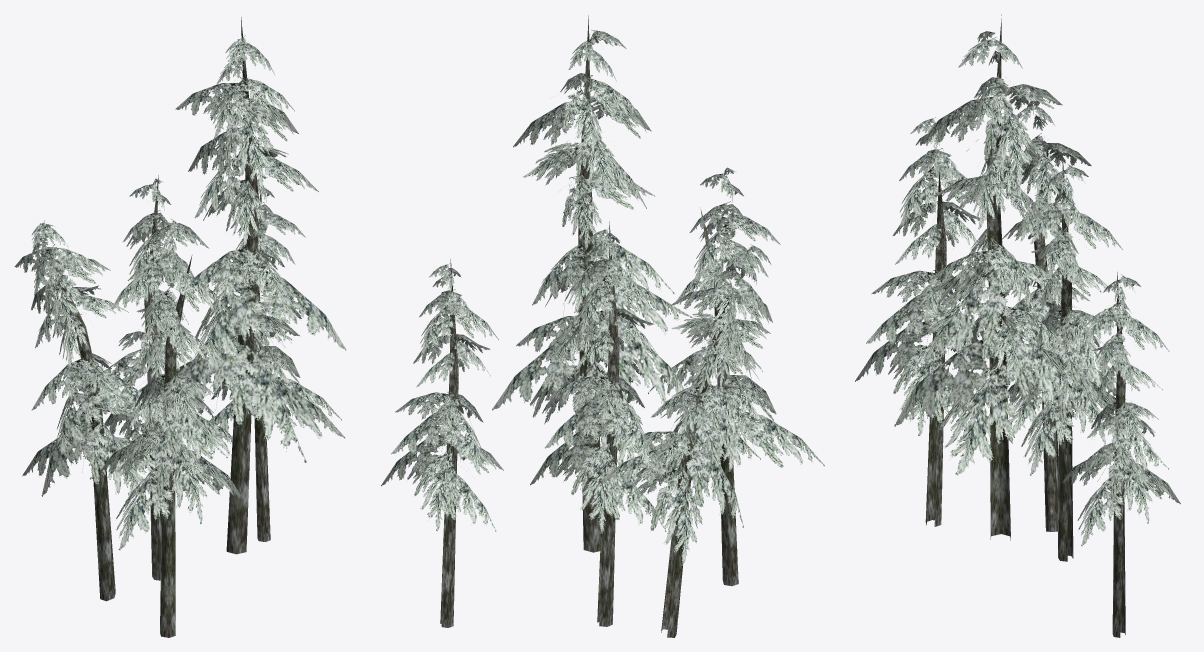
Rendered from S_Tree_White016_2.FBX.
3 views of the same model, side by side, from view 1: azimuth 30°, elevation 25°; view 2: azimuth 150°, elevation 25°; view 3: azimuth 270°, elevation 25° (orthographic).
Parts seen in each view (by area): view 1: S_Tree_White016_2; view 2: S_Tree_White016_2; view 3: S_Tree_White016_2.
Part boxes in pixels (x1,y1,x2,y2): S_Tree_White016_2: (14,17,346,637); S_Tree_White016_2: (381,15,824,637); S_Tree_White016_2: (855,14,1180,637).
Size of the model in its own units: 968 by 823 by 1573.
